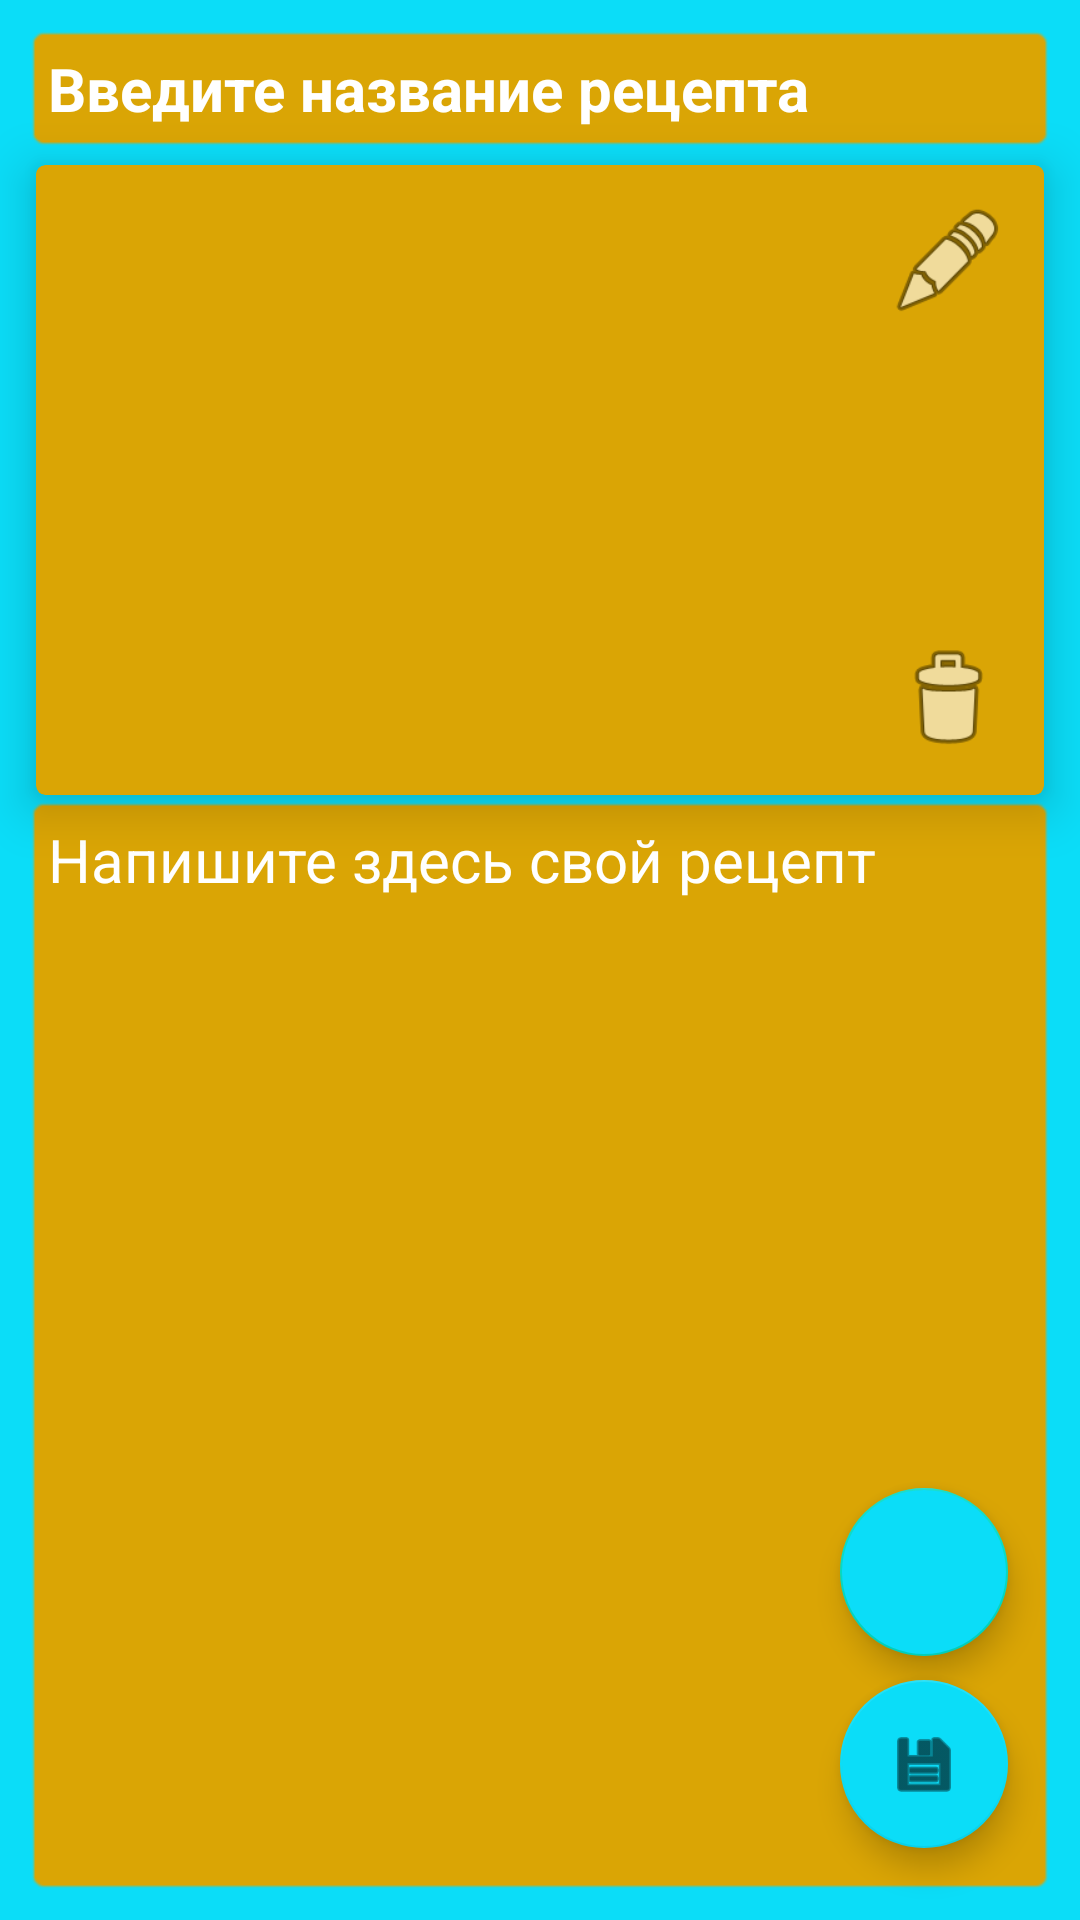

Screen size 1080px x 1920px. Icon name, then its box in pixels as (x1, y1, x2, y2):
delete: (915, 650, 983, 744)
edit: (897, 209, 998, 311)
save: (840, 1680, 1008, 1848)
